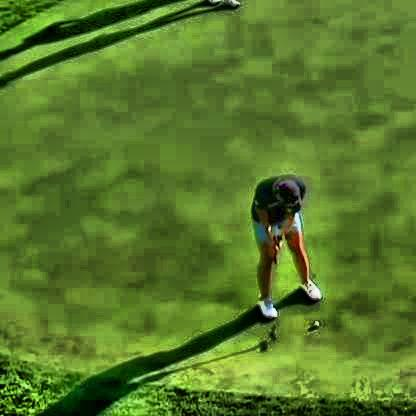golfball: (310, 315, 317, 325)
